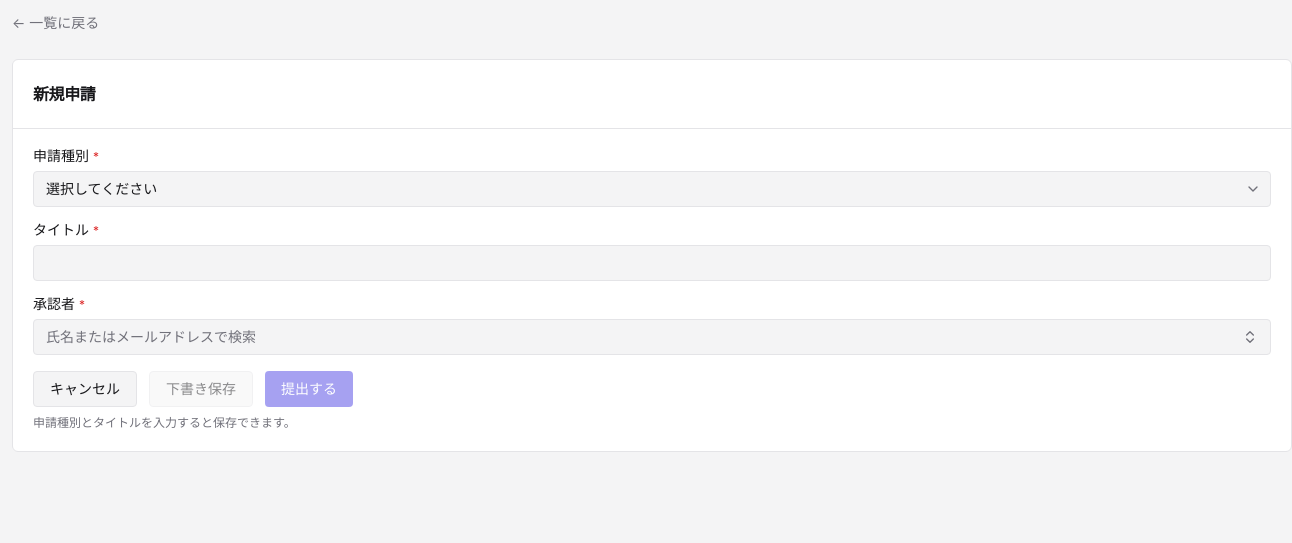
WorkflowRequestNewPage › shows dynamic fields for the selected request type
Select "経費精算" in the dropdown labelled "申請種別". click: (652, 189)
box: [33,171,1271,207]
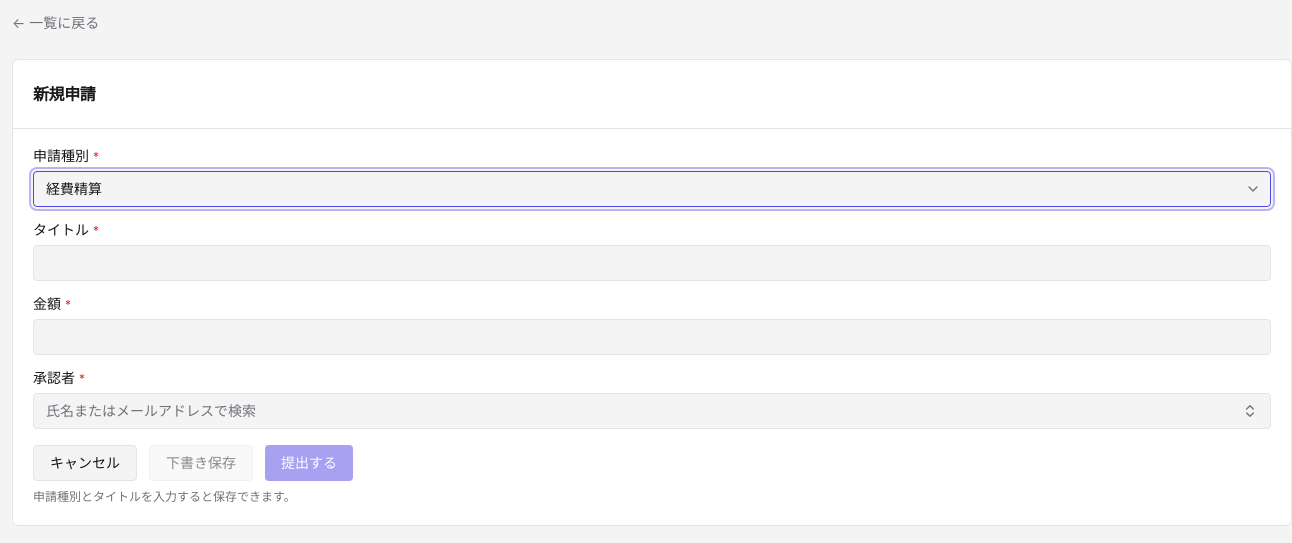
Expected: the number field labelled "金額" is shown, [33,319,1271,355]
